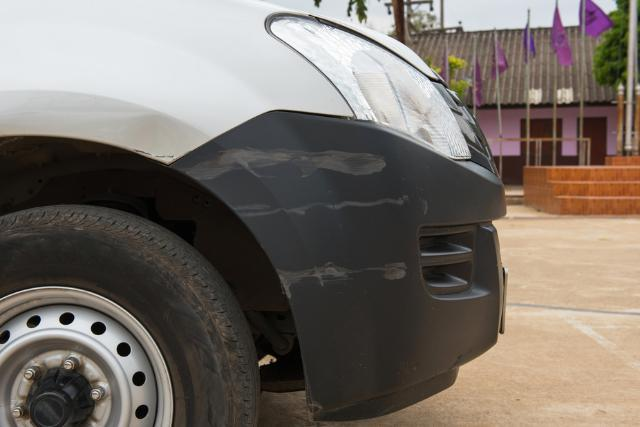Bumper: (173, 113, 454, 314)
